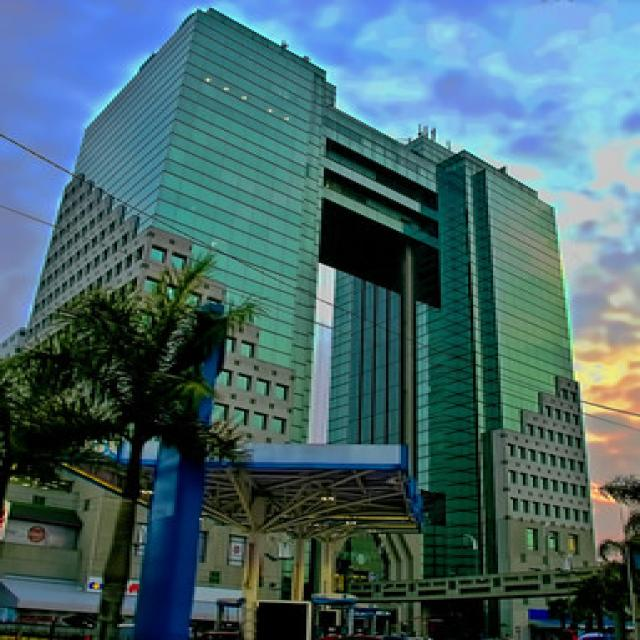building: (15, 3, 615, 640)
